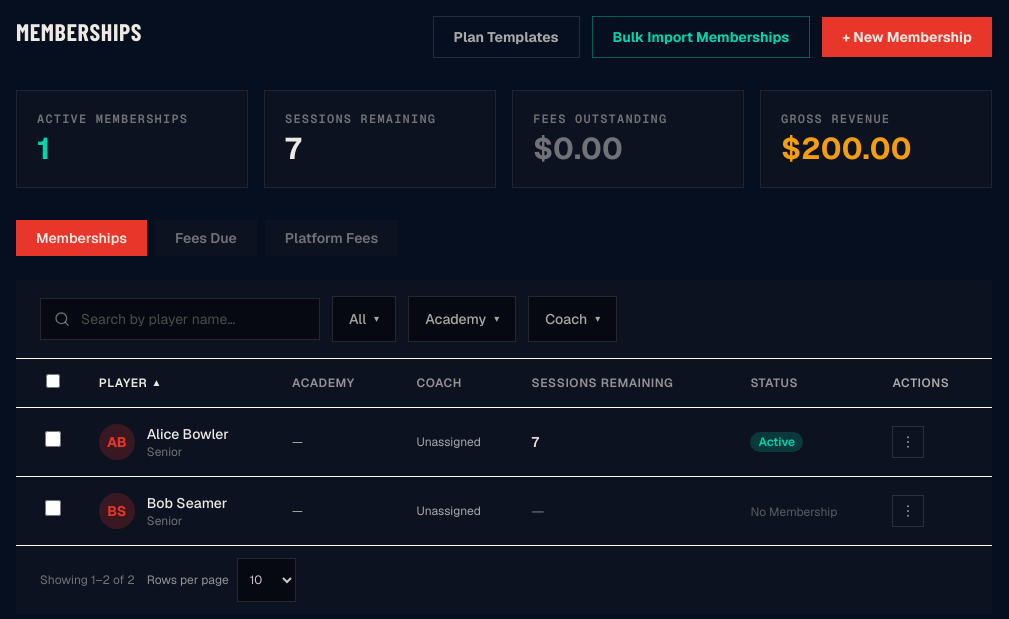
Test: SessionPacksClient › searches by player name
Expected: the text "Alice Bowler" is shown, [147,424,229,444]
Step 1. Type "Bob" into the field with placeholder "Search by player name…" → x=180, y=319, box [40,298,320,340]
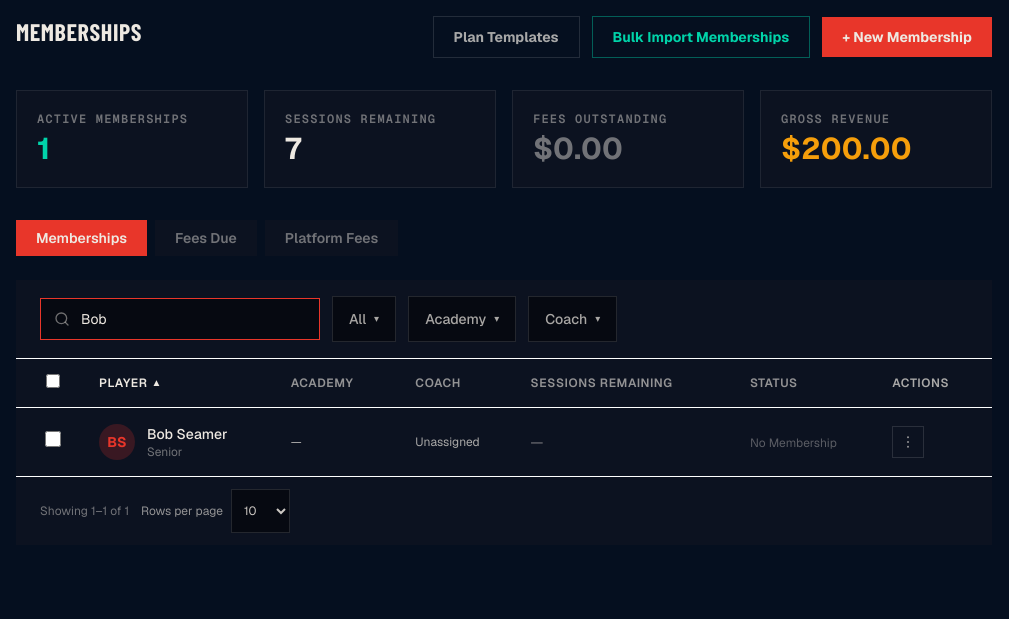
Expected: the text "Bob Seamer" is shown, [147,424,227,444]
Now the button "Alice Bowler" is gone
